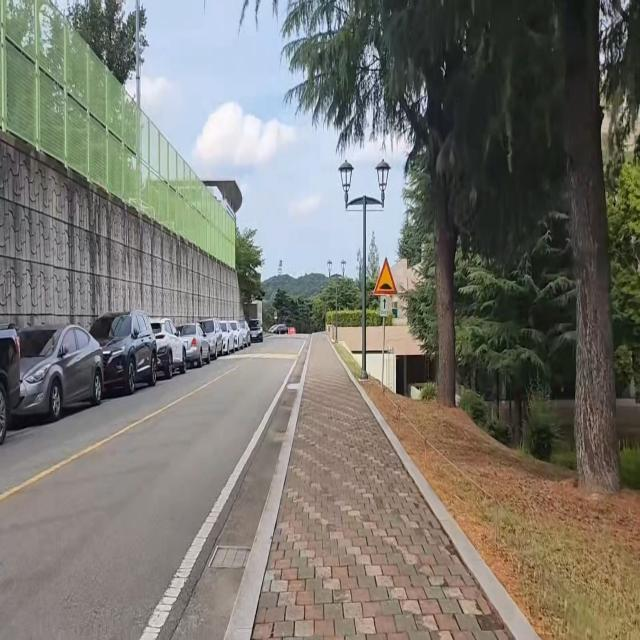road: (0, 338, 308, 640)
sidewalk: (228, 336, 526, 639)
